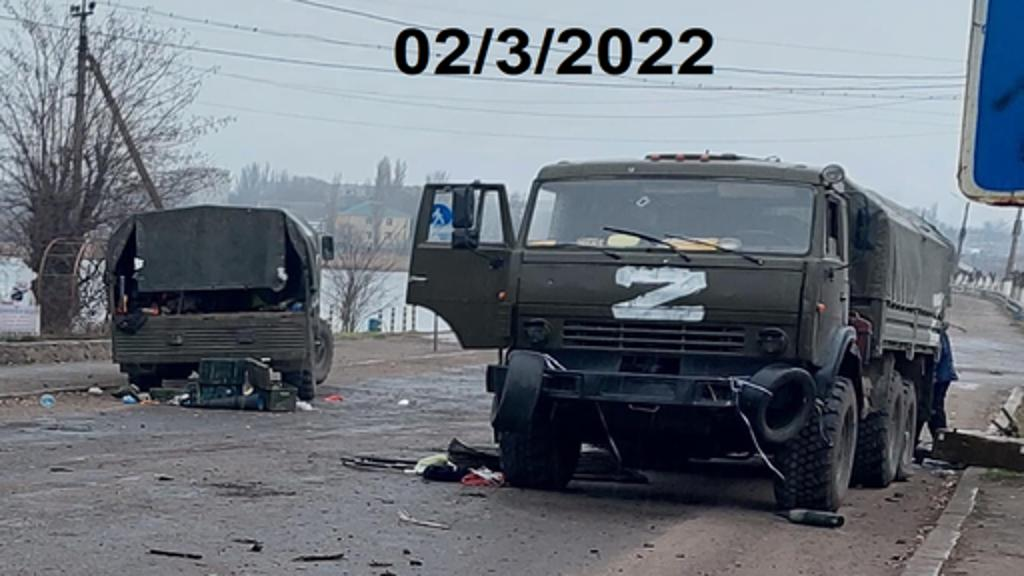TRUCK: (410, 148, 956, 504), (108, 202, 336, 404)
